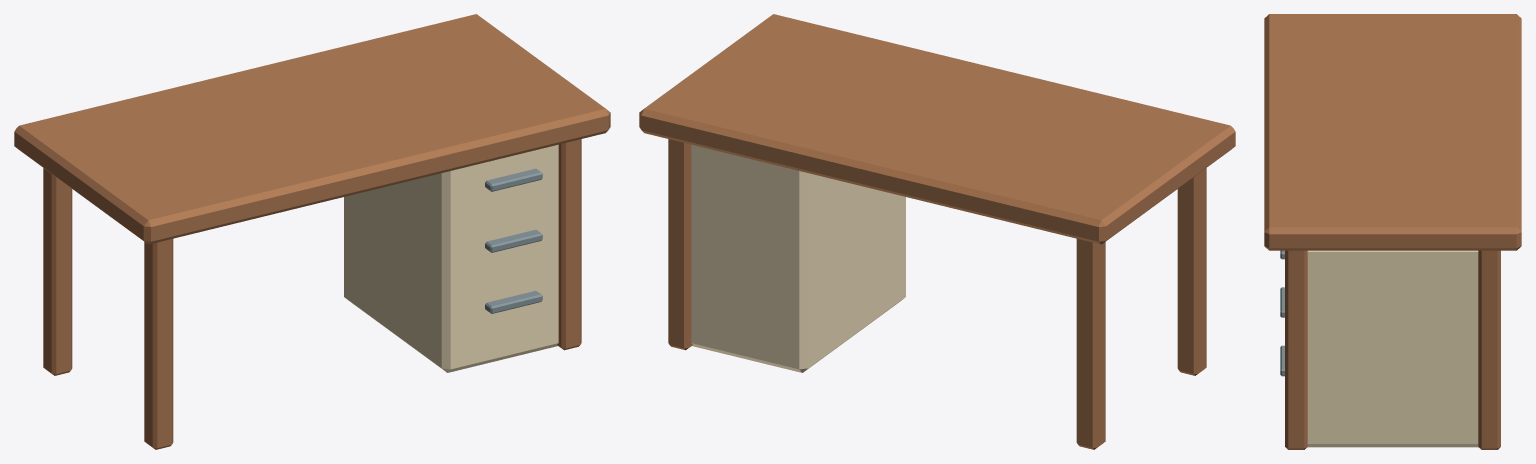
The model's file is Prop_OfficeDesk.fbx.
3 views of the same model, side by side, from view 1: azimuth 30°, elevation 25°; view 2: azimuth 150°, elevation 25°; view 3: azimuth 270°, elevation 25° (orthographic). The views are drawn at different scales.
Parts seen in each view (by area): view 1: Desktop, DrawerPedestal, Leg, Leg.001, Leg.002, DrawerHandle.002, DrawerHandle, DrawerHandle.001; view 2: Desktop, DrawerPedestal, Leg.001, Leg, Leg.003; view 3: Desktop, DrawerPedestal, Leg.002, Leg.003.
Boxes of the visible parts, x1,y1,x2,y2 form: Desktop: (14, 14, 610, 244); DrawerPedestal: (344, 144, 558, 372); Leg: (144, 239, 173, 449); Leg.001: (43, 168, 72, 375); Leg.002: (557, 139, 581, 350); DrawerHandle.002: (485, 168, 542, 191); DrawerHandle: (485, 290, 542, 313); DrawerHandle.001: (485, 229, 542, 252); Desktop: (639, 14, 1235, 244); DrawerPedestal: (691, 144, 905, 372); Leg.001: (1076, 239, 1105, 449); Leg: (1177, 168, 1206, 375); Leg.003: (668, 139, 692, 350); Desktop: (1264, 14, 1521, 250); DrawerPedestal: (1307, 250, 1478, 447); Leg.002: (1285, 250, 1307, 449); Leg.003: (1478, 250, 1500, 449).
Bounding box in the file's own units: 1.6 × 0.79 × 0.8.
